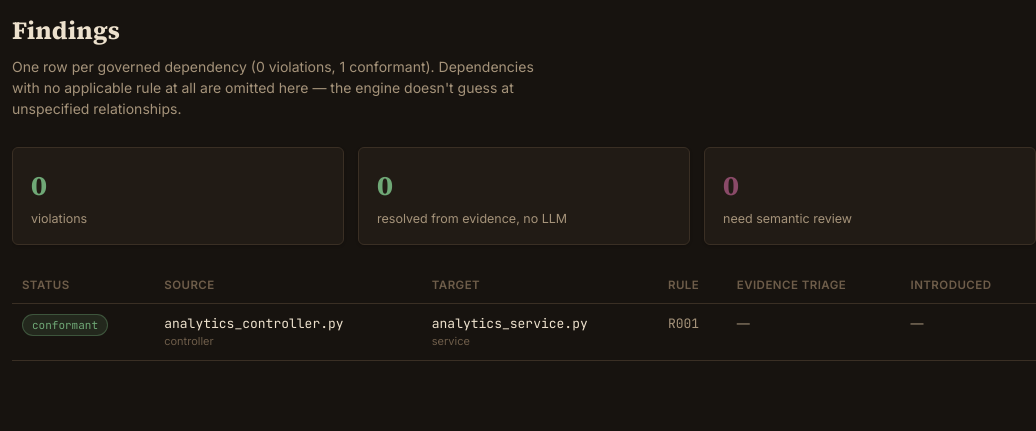
Test: Finding detail › does not load evidence or offer analysis for a conformant dependency
Click the row with test id "row-F001" at (524, 332), box [12,303,1035,360]
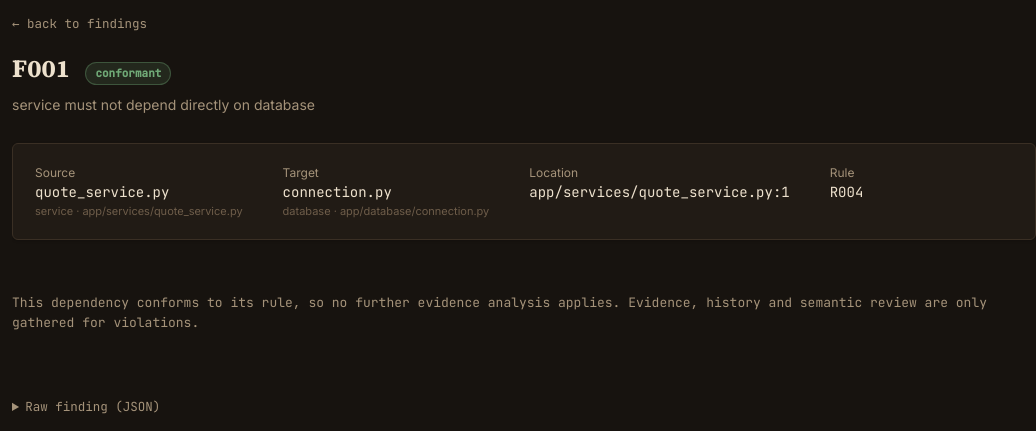
Expected: the text "conforms to its rule" is shown, [12,294,987,330]
